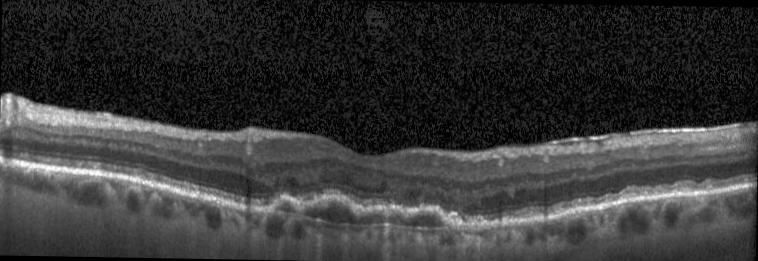subretinal_fluid: (305, 198, 358, 223), (405, 210, 441, 226), (359, 213, 404, 224), (275, 199, 296, 213)
